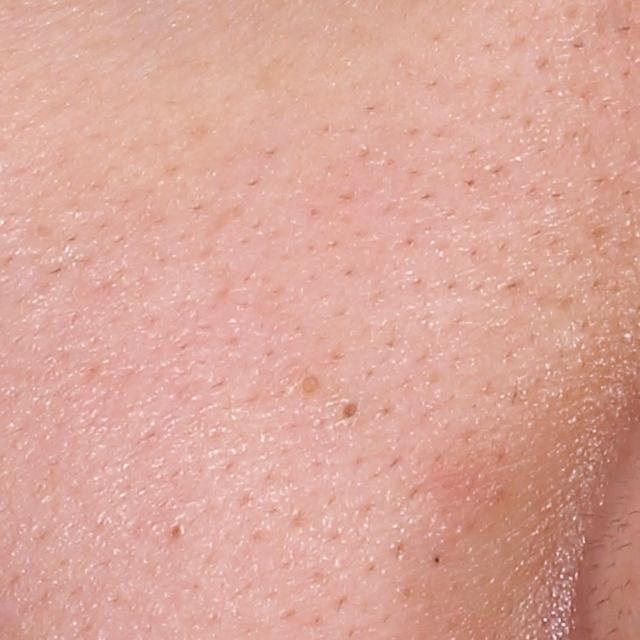comedo: (335, 396, 365, 429), (294, 370, 324, 399), (164, 518, 190, 542)
